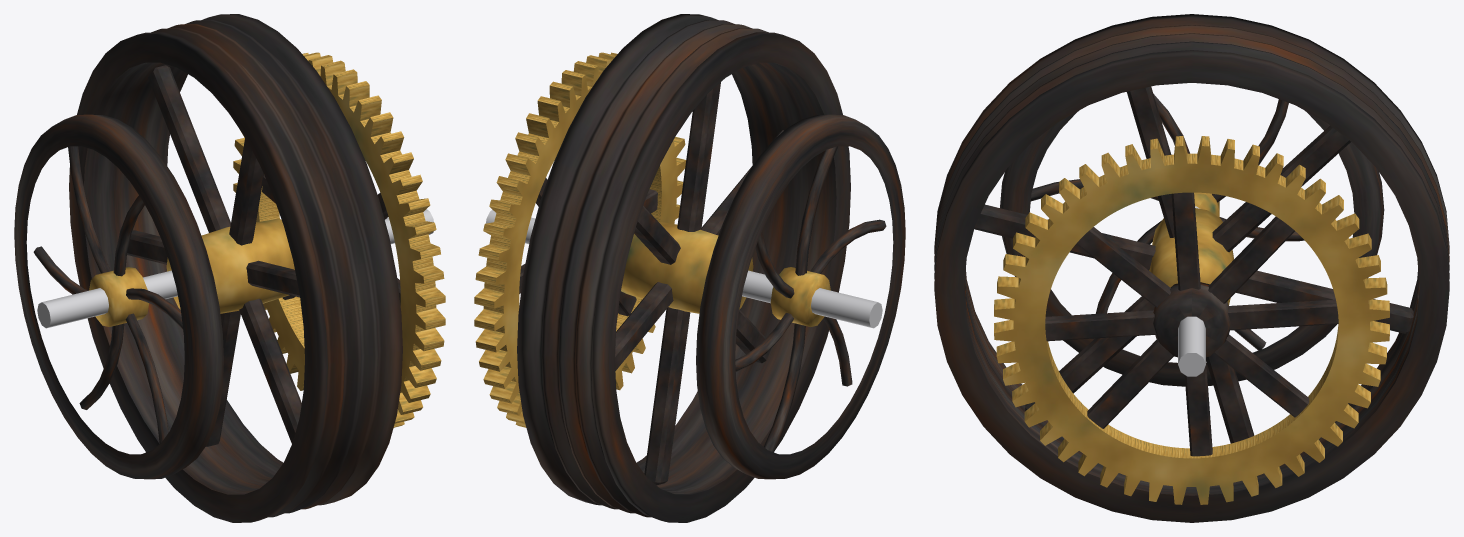
File: sp_lift_sheave.glb
The picture shows the model from 3 angles, left to right: view 1: azimuth 30°, elevation 25°; view 2: azimuth 150°, elevation 25°; view 3: azimuth 270°, elevation 25°; orthographic projection. The views are drawn at different scales.
Visible parts, largest first — view 1: spire; view 2: spire; view 3: spire.
Part boxes in pixels (x1,y1,x2,y2): spire: (14,14,445,522); spire: (474,14,905,522); spire: (934,14,1449,522).
Bounding box in the file's own units: 2.3 × 2.6 × 2.6.
Materials: 3 (2 with a texture image).
